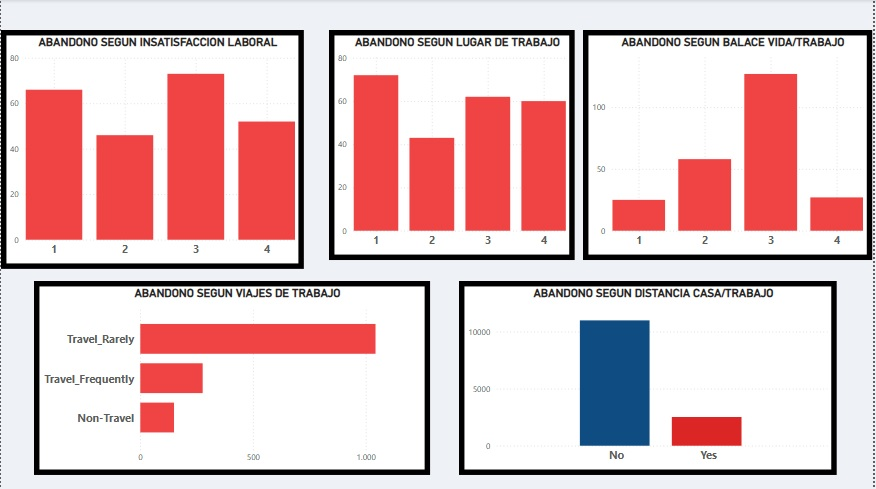

This screenshot's page, from the dashboard's own definition file:
{"tool":"powerbi","page":{"name":"Retention Drivers","canvas":[1280,720],"ordinal":2},"visuals":[{"type":"clusteredColumnChart","title":"ABANDONO SEGUN INSATISFACCION LABORAL","fields":{"Y":["calculo.empleados dado baja"],"Category":["employees_hr_final.JobSatisfaction"]},"box":[0,45.6,445.2,351.2],"z":0},{"type":"clusteredColumnChart","title":"ABANDONO SEGUN BALACE VIDA/TRABAJO","fields":{"Y":["calculo.empleados dado baja"],"Category":["employees_hr_final.WorkLifeBalance"]},"box":[855.2,45.6,424.7,338],"z":1},{"type":"clusteredBarChart","title":"ABANDONO SEGUN VIAJES DE TRABAJO","fields":{"Category":["employees_hr_final.BusinessTravel"],"Y":["CountNonNull(employees_hr_final.Attrition)"]},"box":[48.5,414.4,581.9,285.1],"z":2},{"type":"clusteredColumnChart","title":"ABANDONO SEGUN DISTANCIA CASA/TRABAJO","fields":{"Y":["Sum(employees_hr_final.DistanceFromHome)"],"Category":["employees_hr_final.Attrition"]},"box":[673,414.4,555.4,285.1],"z":3},{"type":"clusteredColumnChart","title":"ABANDONO SEGUN LUGAR DE TRABAJO","fields":{"Y":["calculo.empleados dado baja"],"Category":["employees_hr_final.EnvironmentSatisfaction"]},"box":[482,45.6,361.5,338],"z":4}]}

Visuals, with their boxes in screenshot pixels (x1, y1, x2, y2), scaled from the page's 1280x720 canvas onto the 876x489 screenshot:
"ABANDONO SEGUN INSATISFACCION LABORAL" clusteredColumnChart: detection(0, 31, 305, 269)
"ABANDONO SEGUN BALACE VIDA/TRABAJO" clusteredColumnChart: detection(585, 31, 875, 261)
"ABANDONO SEGUN VIAJES DE TRABAJO" clusteredBarChart: detection(33, 281, 431, 475)
"ABANDONO SEGUN DISTANCIA CASA/TRABAJO" clusteredColumnChart: detection(461, 281, 841, 475)
"ABANDONO SEGUN LUGAR DE TRABAJO" clusteredColumnChart: detection(330, 31, 577, 261)
